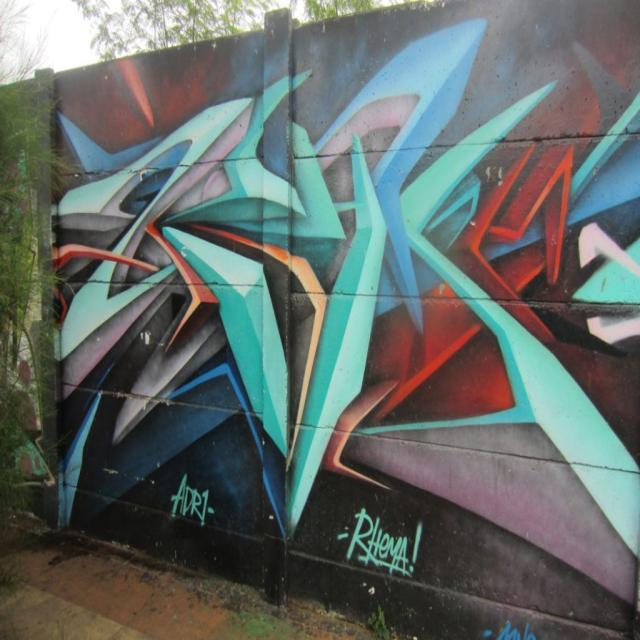-: (55, 22, 640, 608), (340, 501, 420, 576), (172, 469, 219, 526)
